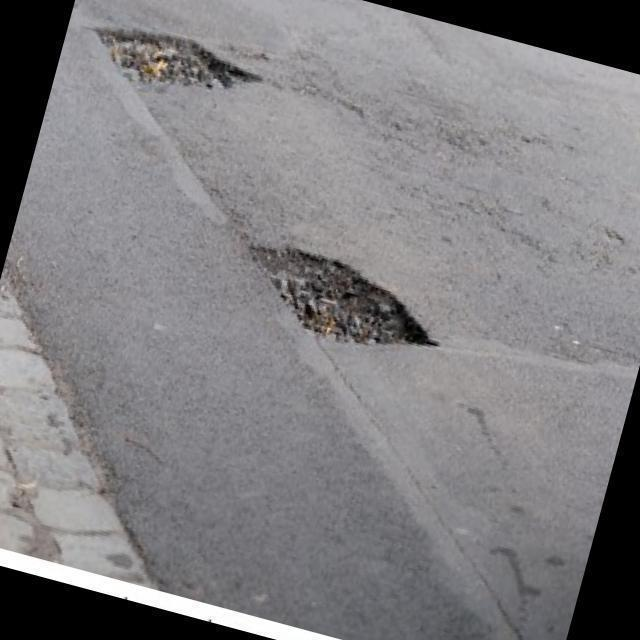pothole: (228, 233, 456, 364), (82, 12, 266, 118)
